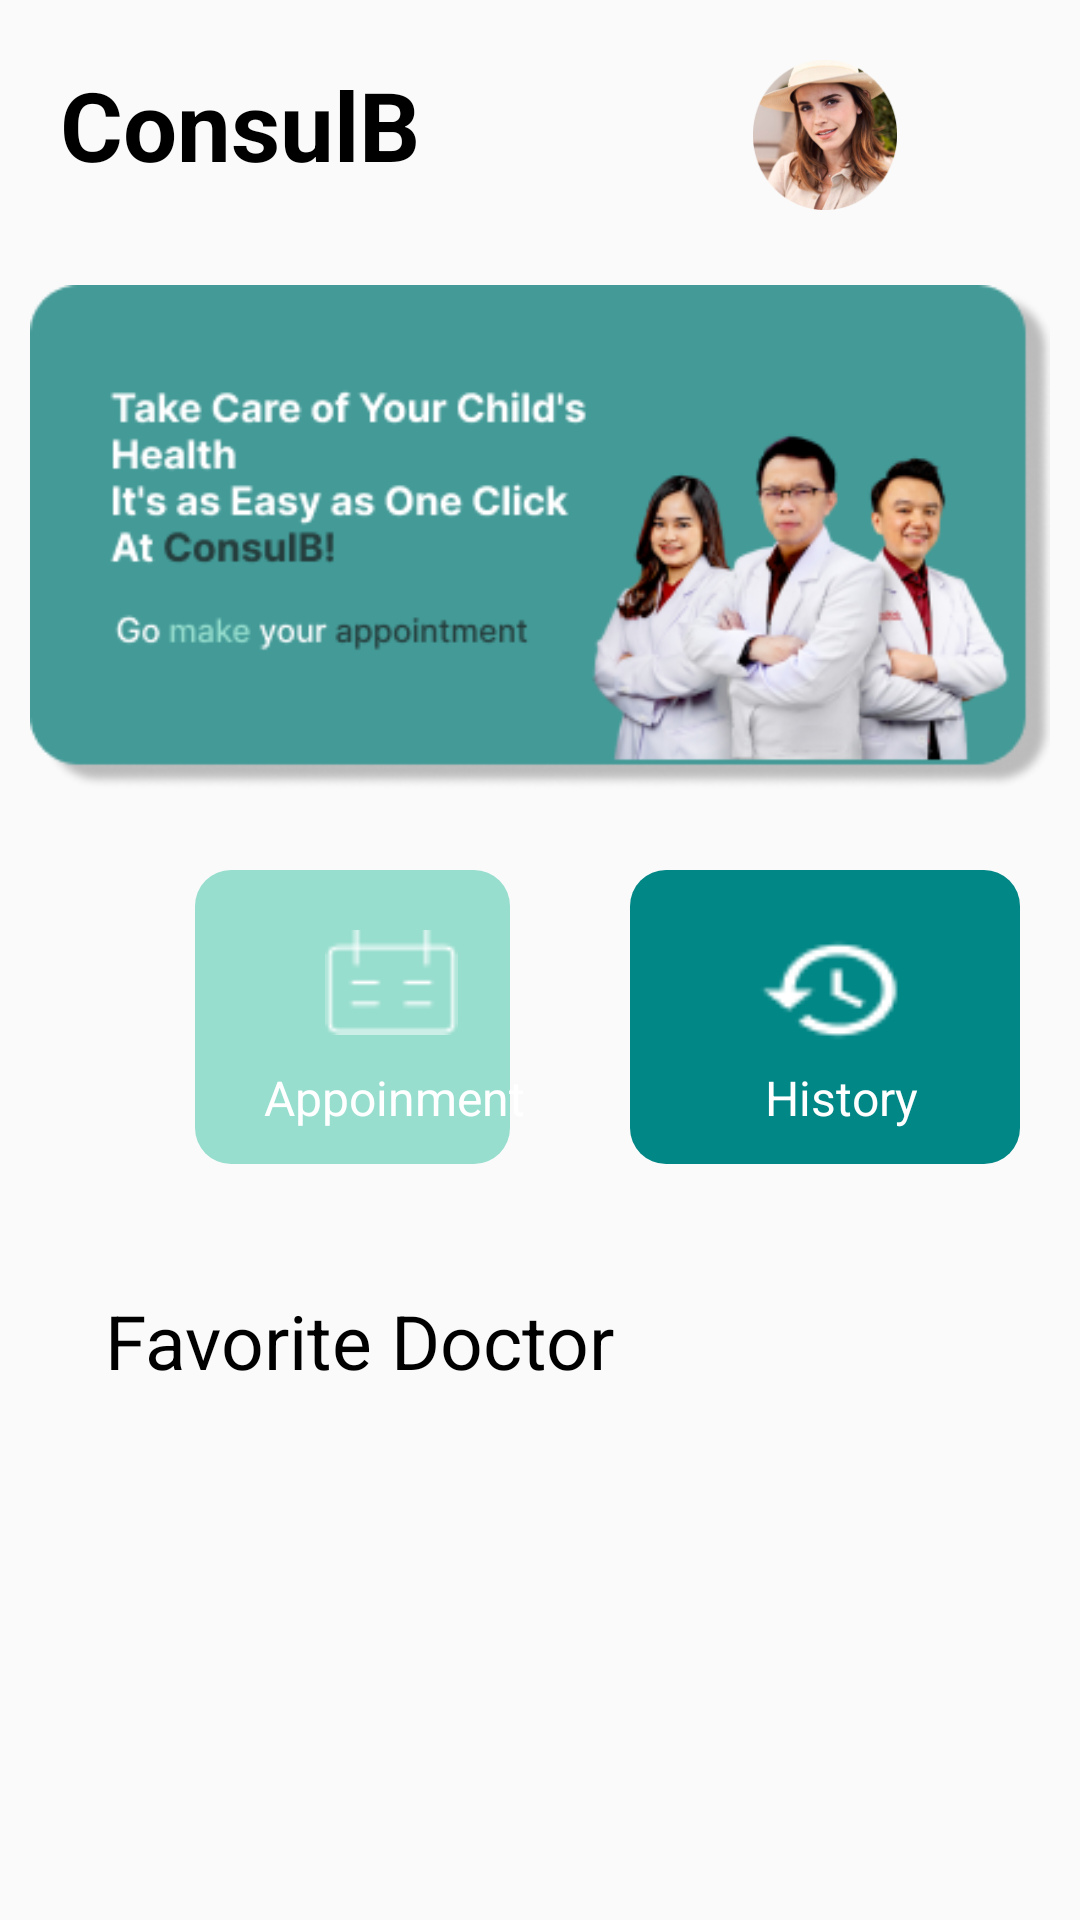

Named icons in this screenshot (1080px×1920px) and their bounding boxes, {"x1": x1, "y1": y1, "x2": x2, "y2": y2}:
profile: {"x1": 753, "y1": 65, "x2": 897, "y2": 210}
